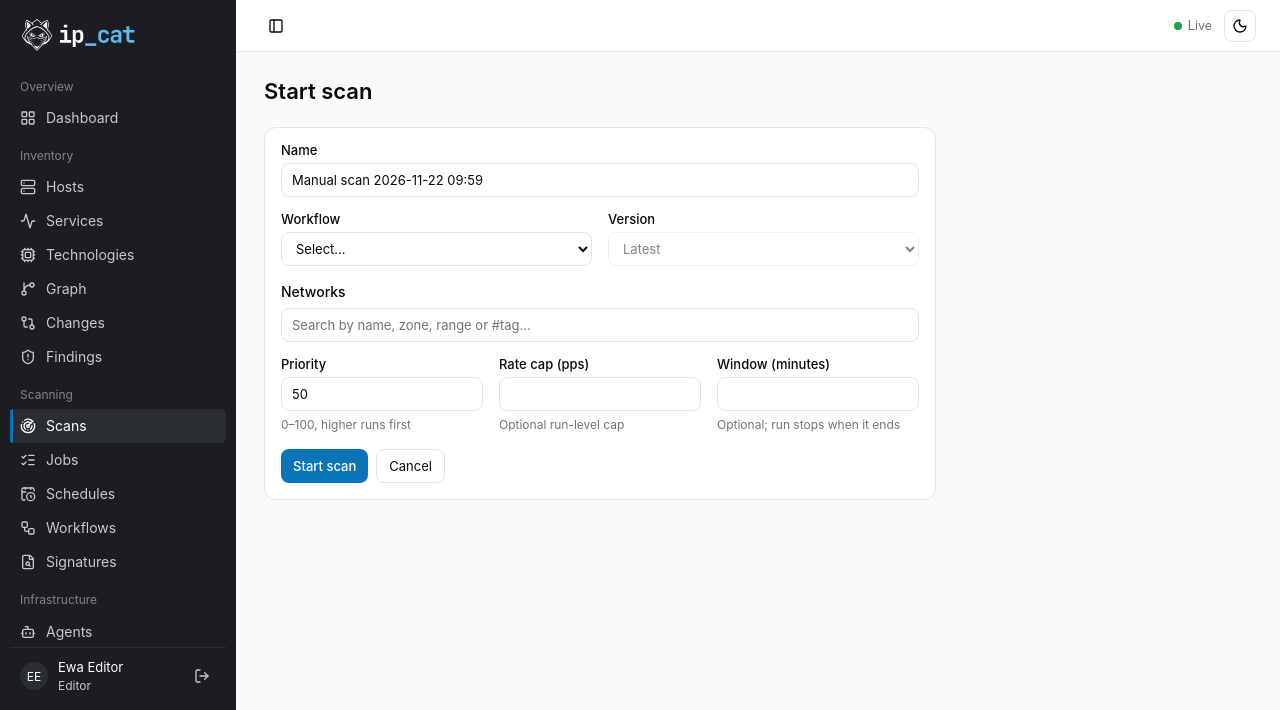
it: start scan form › shows a live estimate that follows the networks and warns about a short window
Select "Quick port sweep (quick-ports)" in the dropdown labelled "Workflow": (436, 249) [281,232,592,266]
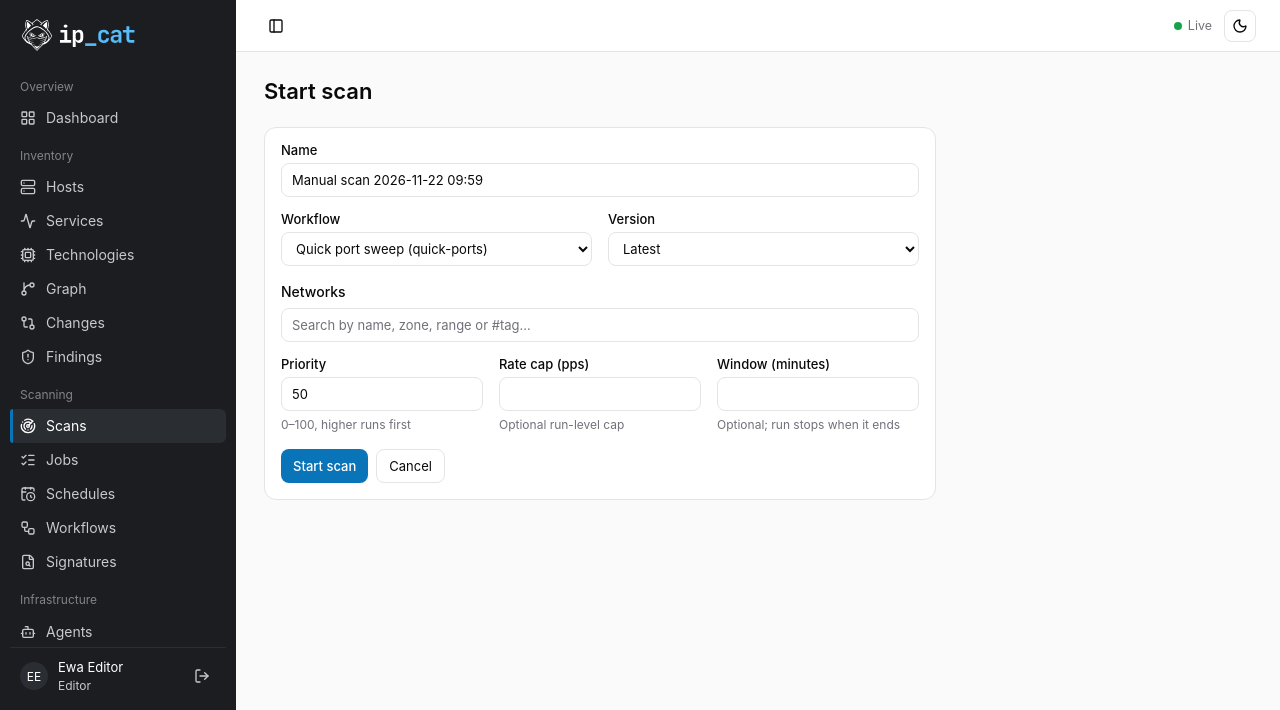
In the dropdown named "Search networks": (600, 325) [281,308,919,342], type "dmz"
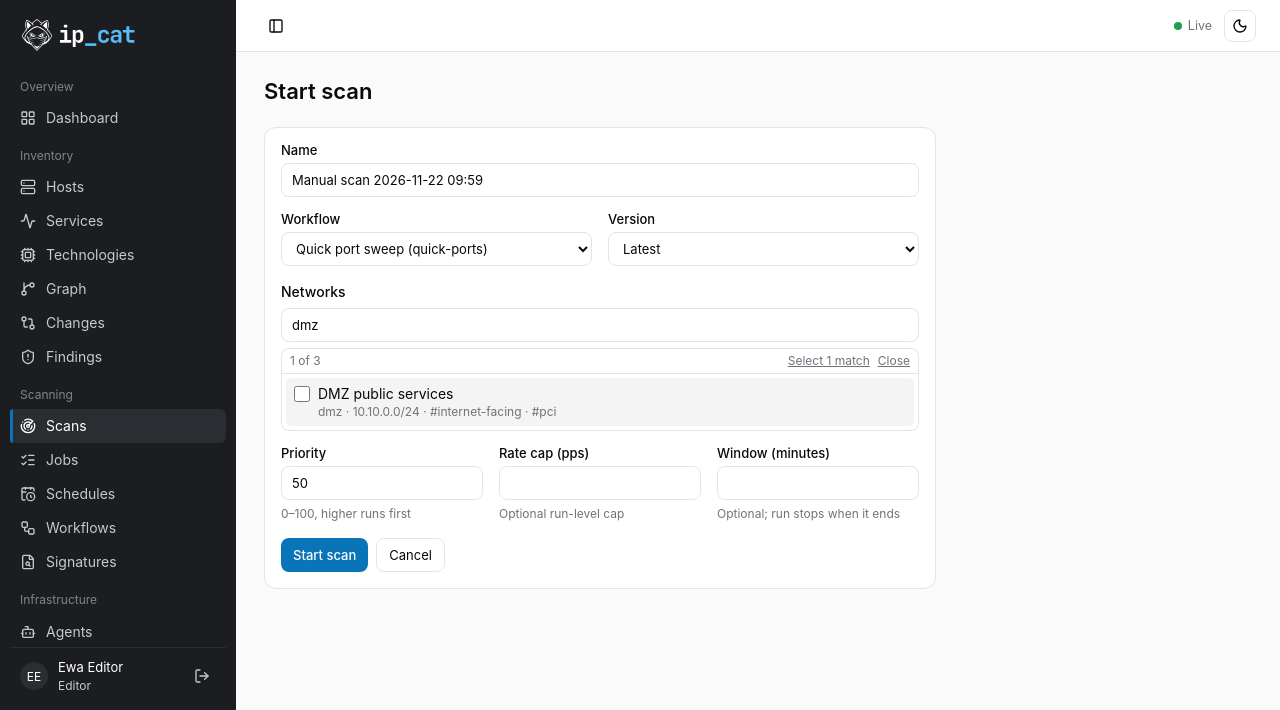
Click the option "DMZ public services": (386, 394) [286,378,914,426]
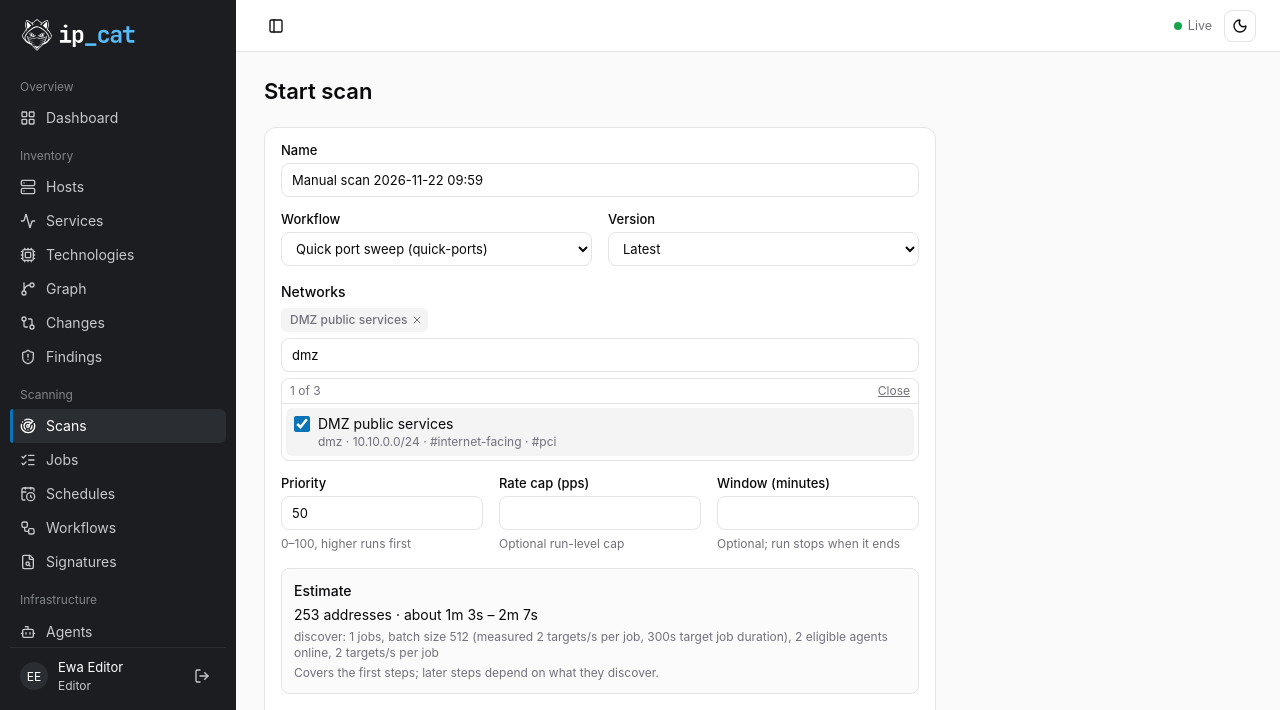
Expected: the element named "Scan estimate" shows "253 addresses", [281,568,919,694]
Expected: the element named "Scan estimate" shows "about 1m 3s – 2m 7s", [404,606,538,623]
Expected: the element named "Scan estimate" shows "discover: 1 jobs, batch size 512", [281,568,919,694]
In the number field labelled "Window (minutes)": (818, 513) [717,496,919,530], type "1"
(page scrolled)
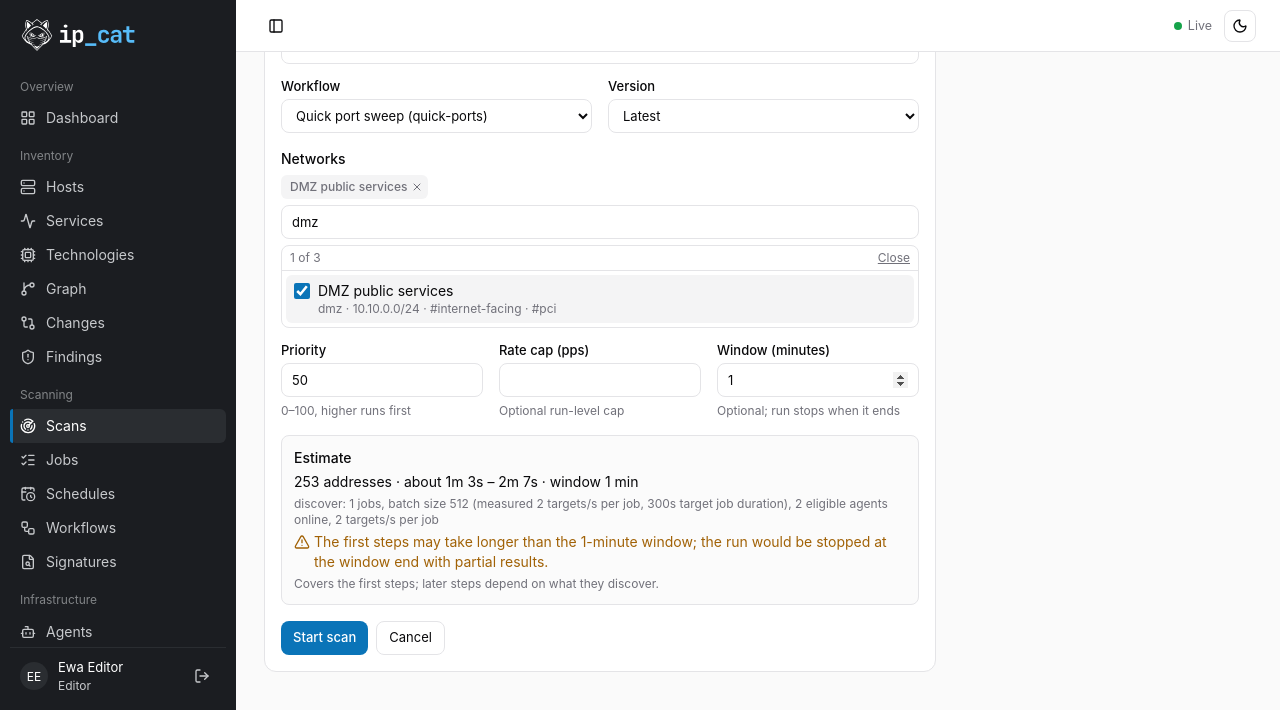
Expected: the element named "Scan estimate" shows "longer than the 1-minute window", [314,533,887,570]
